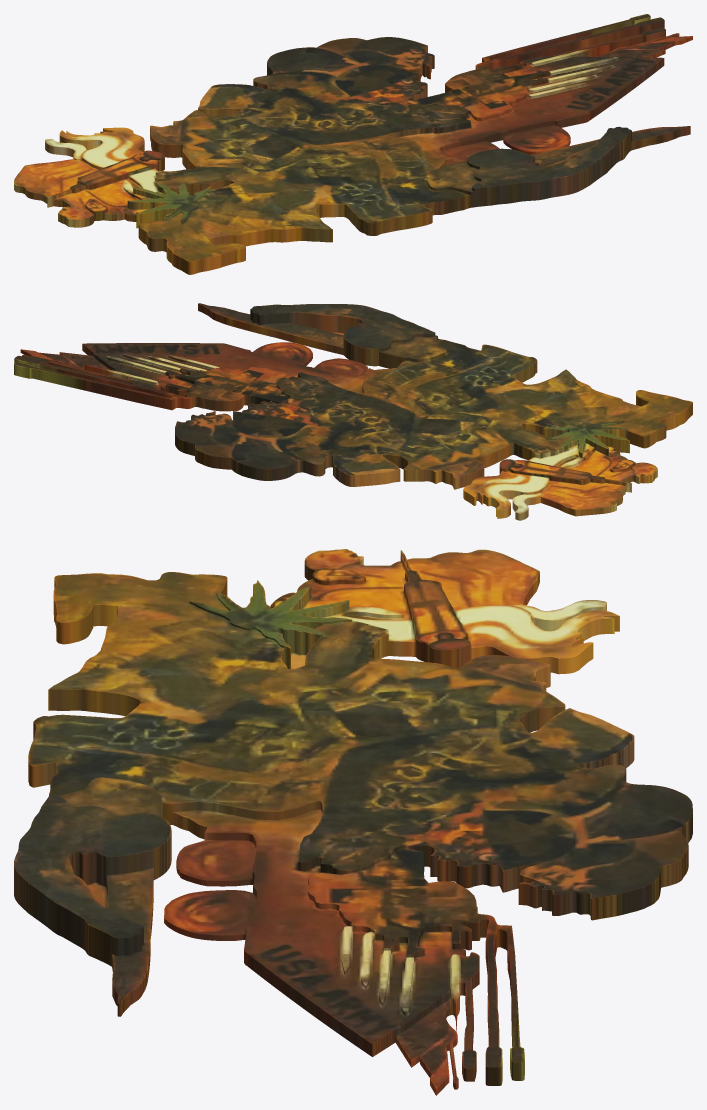
File: Panama 3.dae
3 views of the same model, one above another, from view 1: azimuth 30°, elevation 25°; view 2: azimuth 150°, elevation 25°; view 3: azimuth 270°, elevation 25° (orthographic). The views are drawn at different scales.
Visible parts, largest first — view 1: SketchUp (×2); view 2: SketchUp; view 3: SketchUp (×2).
Part boxes in pixels (left/top/right/bottom): SketchUp (×2): left=14, top=14, right=692, bottom=274; SketchUp: left=14, top=303, right=692, bottom=520; SketchUp (×2): left=14, top=549, right=692, bottom=1095.
Bounding box in the file's own units: 78.02 × 41.81 × 2.06.
Materials: 1 (1 with a texture image).
